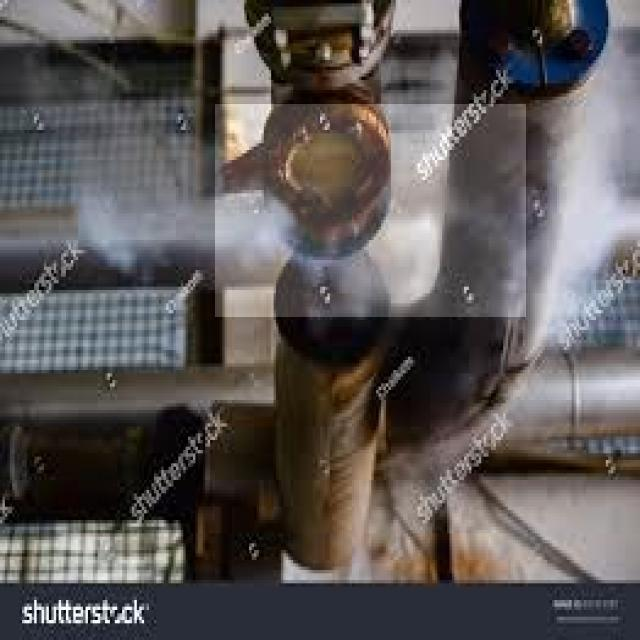corrosion: (188, 173, 348, 297)
